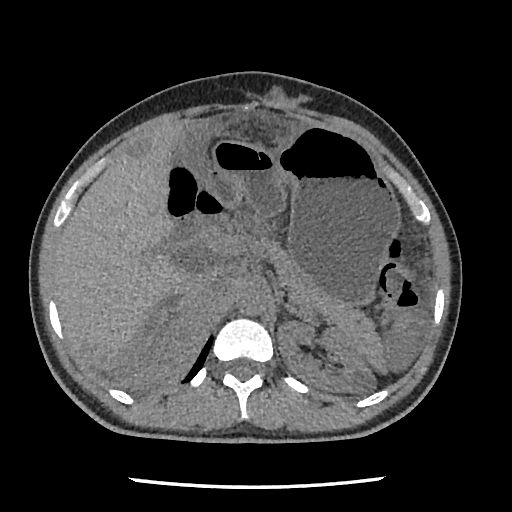Lesion: (349, 366, 379, 399)
